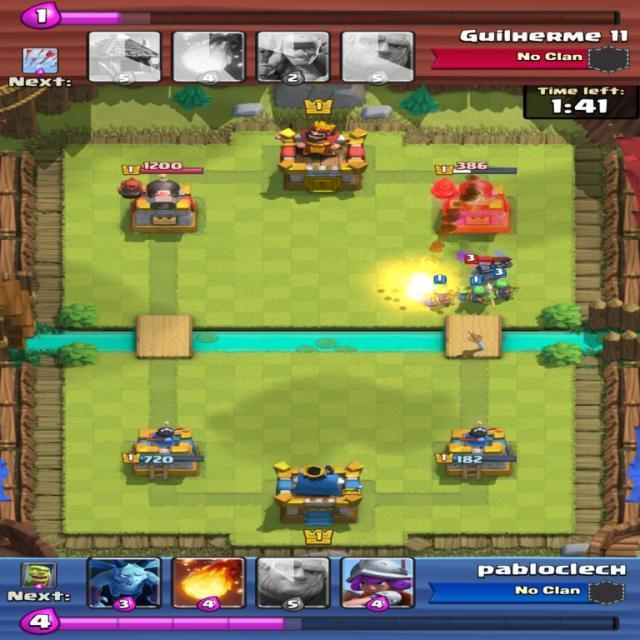ECannoneerTower: (124, 177, 200, 237), (437, 179, 512, 234)
EKingTower: (282, 127, 362, 193)
EMiniPeka: (464, 250, 514, 278)
OSpearGoblin: (423, 274, 459, 312), (458, 274, 493, 311), (486, 268, 516, 306)
OwnKingTower: (269, 458, 356, 519)
OwnPrincessTower: (132, 423, 201, 481), (447, 421, 511, 474)
